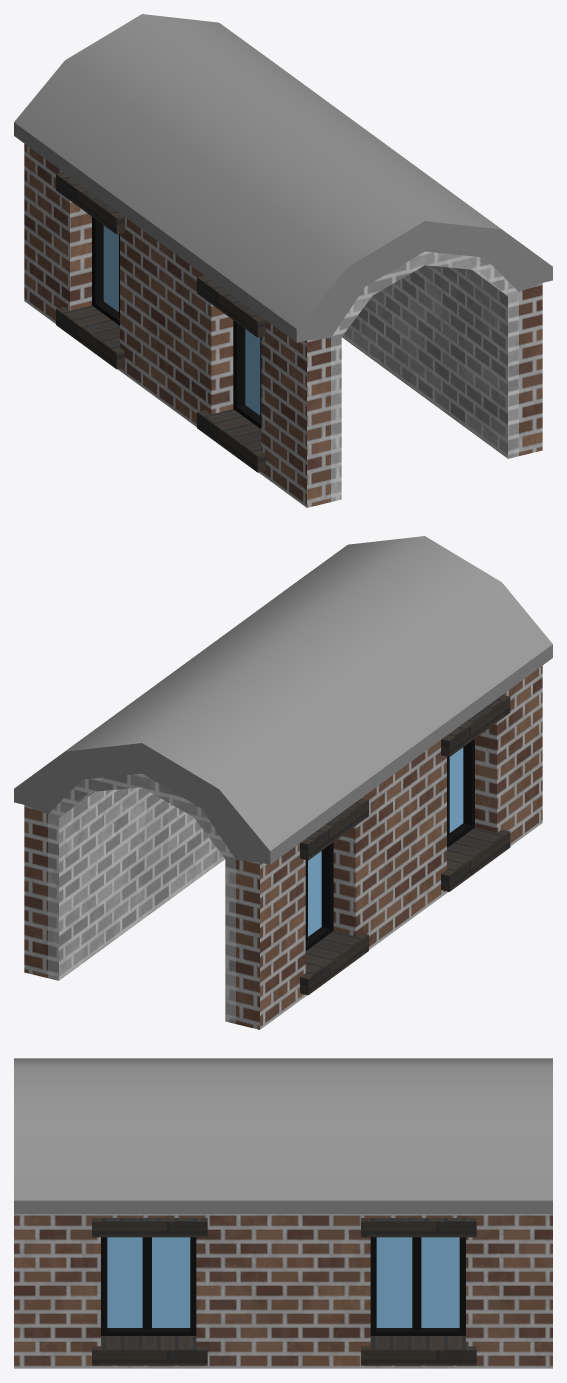
Rendered from Normal_Roof_002.FBX.
3 views of the same model, one above another, from view 1: azimuth 30°, elevation 25°; view 2: azimuth 150°, elevation 25°; view 3: azimuth 270°, elevation 25° (orthographic). The views are drawn at different scales.
Parts seen in each view (by area): view 1: Normal_Roof_002; view 2: Normal_Roof_002; view 3: Normal_Roof_002.
Boxes of the visible parts, left/top/right/bottom form: Normal_Roof_002: left=14, top=14, right=552, bottom=507; Normal_Roof_002: left=14, top=536, right=552, bottom=1029; Normal_Roof_002: left=14, top=1058, right=552, bottom=1368.
Bounding box in the file's own units: 262 × 500 × 252.
